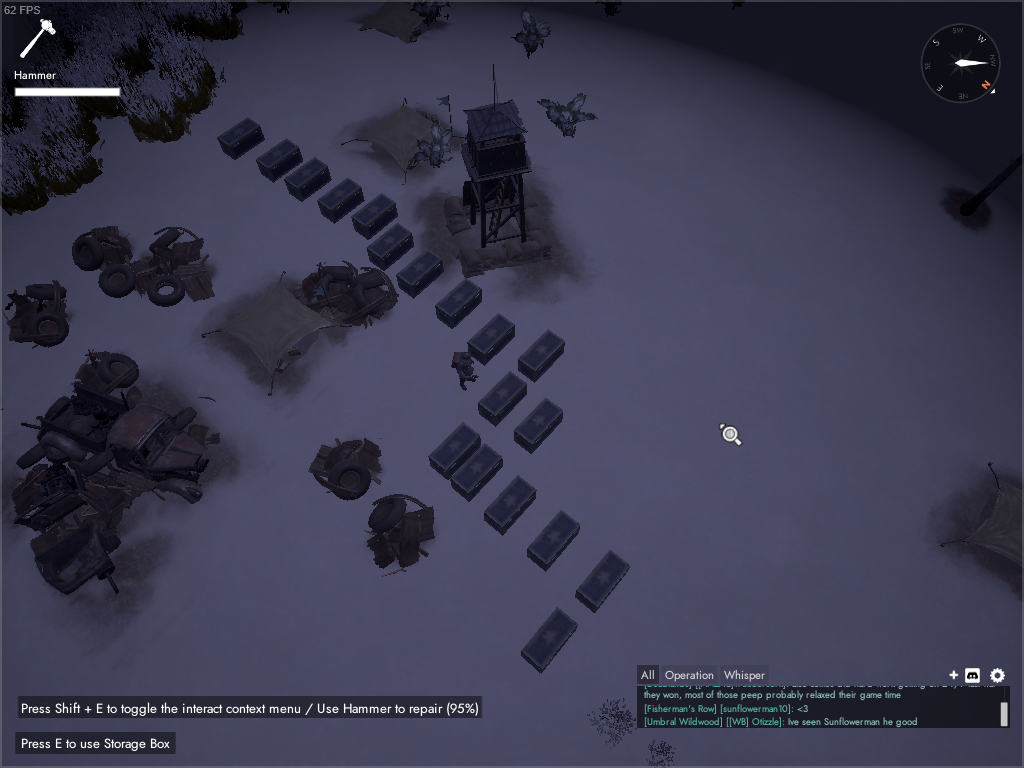foxhole: (200, 269, 349, 400), (935, 459, 1024, 602), (340, 95, 468, 186), (346, 1, 452, 43)
player: (450, 351, 479, 392)
scrap: (98, 229, 216, 307), (298, 258, 400, 329), (366, 492, 435, 577), (306, 434, 384, 501), (2, 280, 73, 350), (68, 223, 139, 276)
scrapyard: (1, 350, 226, 600)
storage_box: (519, 606, 581, 678), (572, 549, 633, 614), (524, 510, 584, 572), (482, 474, 540, 537), (449, 442, 506, 502), (512, 397, 568, 457), (427, 421, 483, 480), (476, 372, 531, 426), (466, 312, 517, 367), (514, 328, 566, 381), (253, 133, 306, 185), (434, 279, 485, 330), (394, 251, 446, 301), (349, 192, 402, 241), (215, 114, 266, 163), (365, 222, 416, 271), (318, 175, 365, 226), (285, 156, 332, 202)
watchtower: (441, 63, 555, 280)
